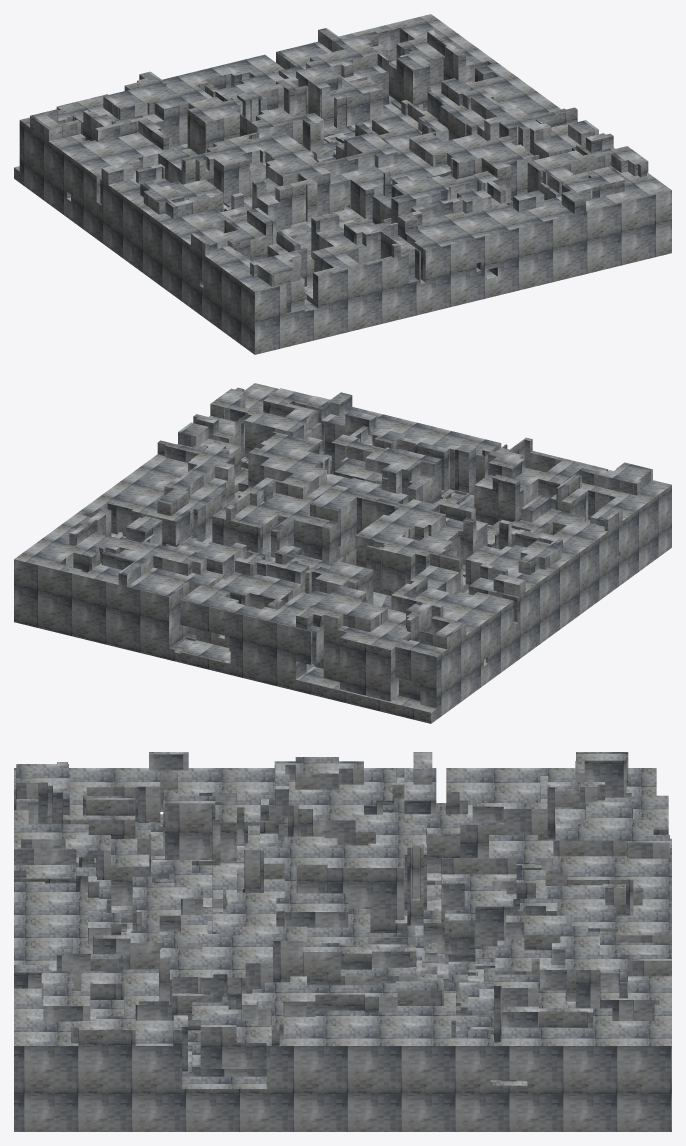
File: greeble_game_map2-opt.glb
3 renders of one model, top to bottom at view 1: azimuth 30°, elevation 25°; view 2: azimuth 150°, elevation 25°; view 3: azimuth 270°, elevation 25°, orthographic. The views are drawn at different scales.
Parts seen in each view (by area): view 1: Plane002_walls_0; view 2: Plane002_walls_0; view 3: Plane002_walls_0.
Boxes of the visible parts, x1,y1,x2,y2 form: Plane002_walls_0: [14, 14, 671, 354]; Plane002_walls_0: [14, 383, 671, 723]; Plane002_walls_0: [14, 752, 671, 1131].
Size of the model in its own units: 192 by 32.85 by 192.
Materials: 1 (1 with a texture image).
